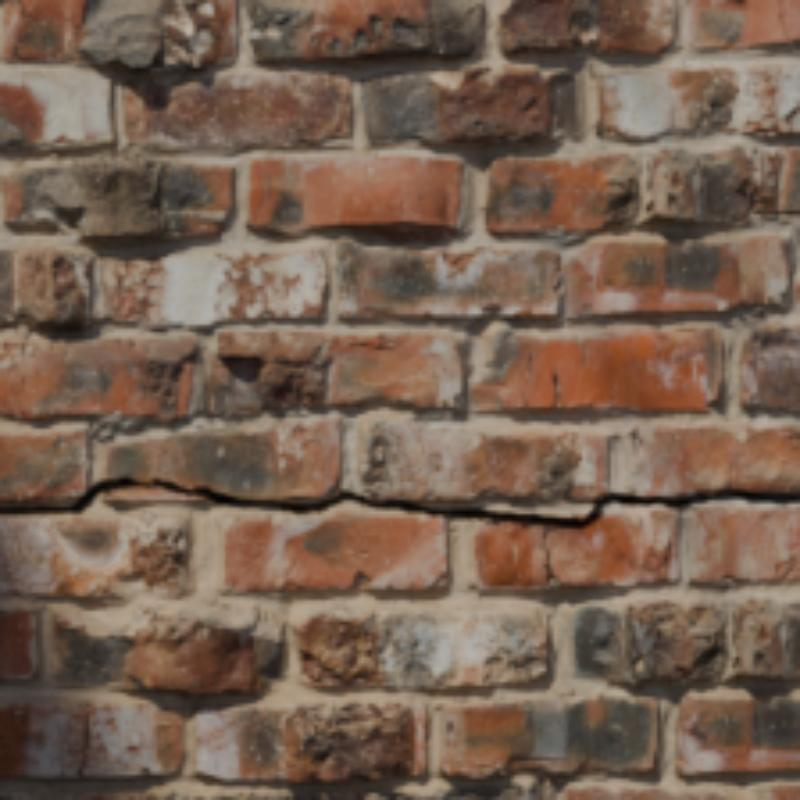pothole: (0, 479, 796, 525)
